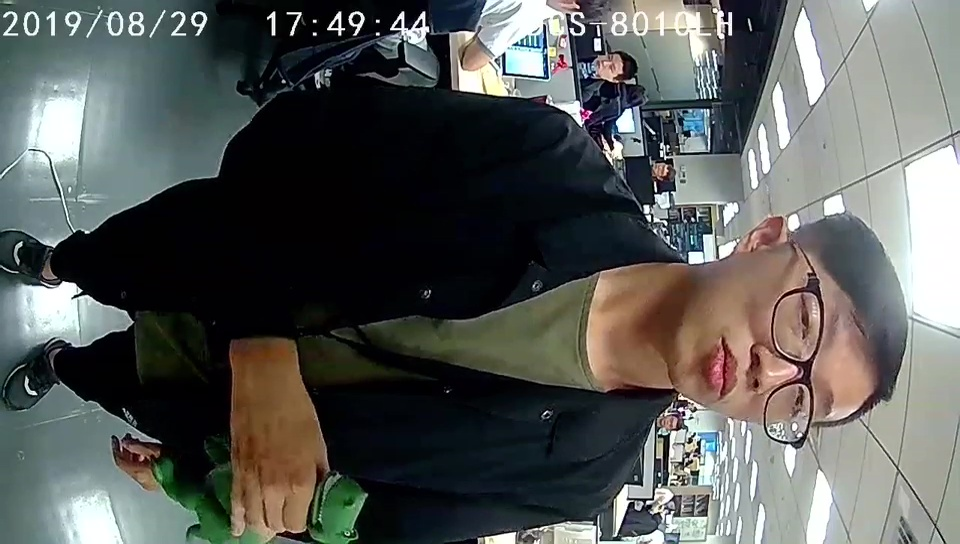rex: (149, 436, 367, 544)
